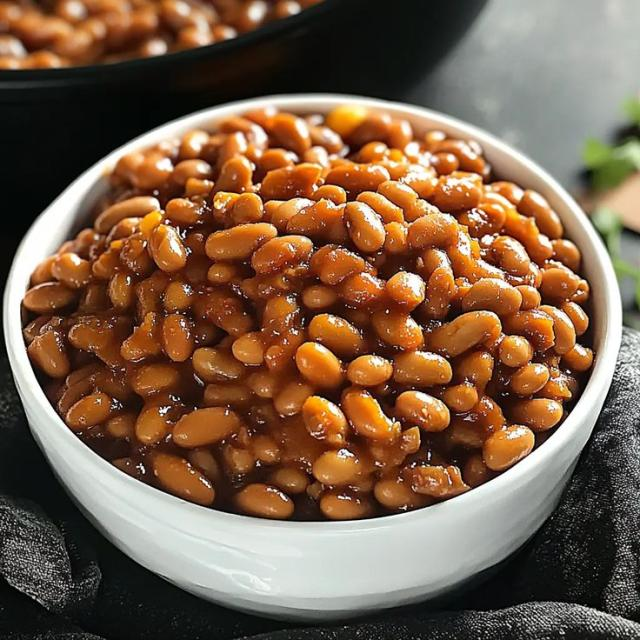beans: (23, 107, 593, 519), (427, 312, 501, 356), (152, 453, 214, 505), (342, 387, 400, 439), (173, 407, 240, 447), (207, 223, 277, 259), (308, 314, 366, 357), (94, 196, 159, 233), (379, 180, 437, 221), (483, 426, 534, 471), (252, 236, 313, 273), (302, 396, 347, 446), (518, 190, 563, 239), (260, 163, 321, 199), (462, 279, 521, 316), (310, 246, 365, 285), (296, 342, 343, 387), (504, 309, 554, 351), (344, 202, 385, 253), (396, 392, 449, 431), (372, 310, 423, 350), (394, 351, 452, 386), (27, 331, 70, 378), (407, 466, 470, 498), (326, 164, 389, 196), (237, 483, 293, 519), (192, 347, 245, 382), (430, 176, 481, 212), (407, 214, 459, 249), (313, 449, 361, 485), (66, 394, 112, 431), (374, 479, 427, 511), (150, 225, 186, 272), (269, 114, 311, 154), (540, 306, 575, 354), (23, 282, 76, 313), (511, 399, 562, 431), (131, 364, 179, 397), (135, 405, 174, 445), (357, 192, 404, 225), (386, 272, 426, 310), (162, 314, 194, 361), (492, 236, 530, 275), (340, 273, 384, 306), (347, 355, 393, 386), (456, 351, 493, 389), (320, 492, 372, 519), (274, 380, 313, 416), (52, 253, 91, 288), (540, 267, 579, 299), (511, 363, 549, 395), (202, 383, 252, 406), (462, 454, 495, 487), (442, 383, 478, 413), (270, 467, 310, 494), (499, 336, 533, 367), (233, 333, 264, 365), (552, 239, 581, 272), (302, 285, 338, 310), (561, 302, 588, 335), (563, 344, 593, 372), (105, 414, 136, 439), (384, 222, 408, 254), (516, 286, 540, 310)
